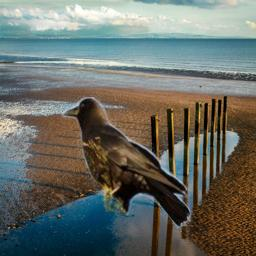Crow: (61, 93, 191, 232)
